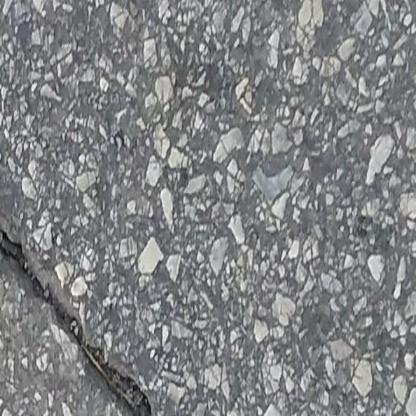Cracks: (0, 217, 166, 416)
